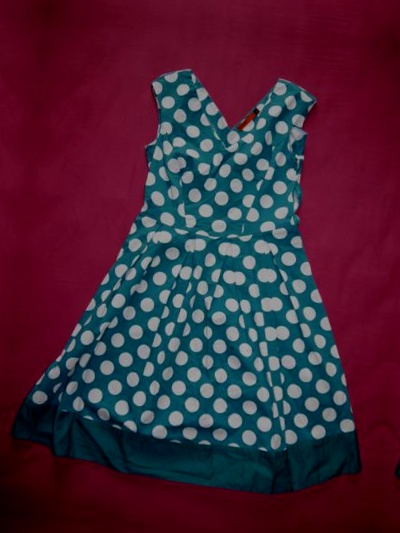Dress: (11, 31, 400, 525), (0, 0, 32, 484), (64, 0, 400, 29), (380, 71, 400, 533)
